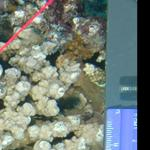alive: (2, 3, 135, 147)
